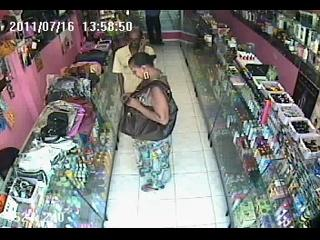Normal: (120, 50, 177, 192), (120, 82, 178, 142), (111, 26, 156, 94), (145, 10, 165, 45), (76, 50, 109, 65)
